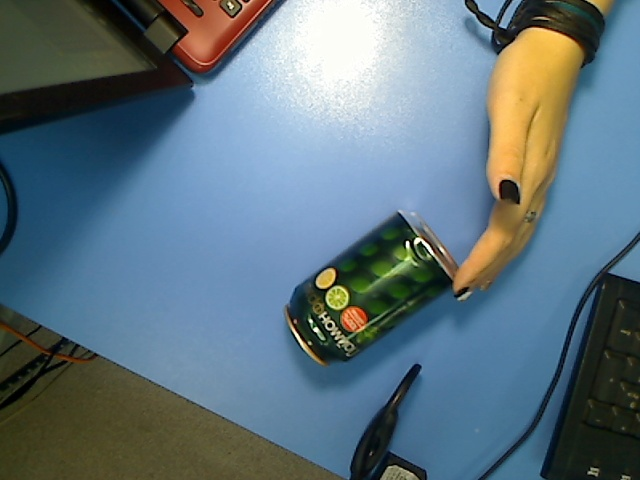can: (279, 207, 466, 369)
